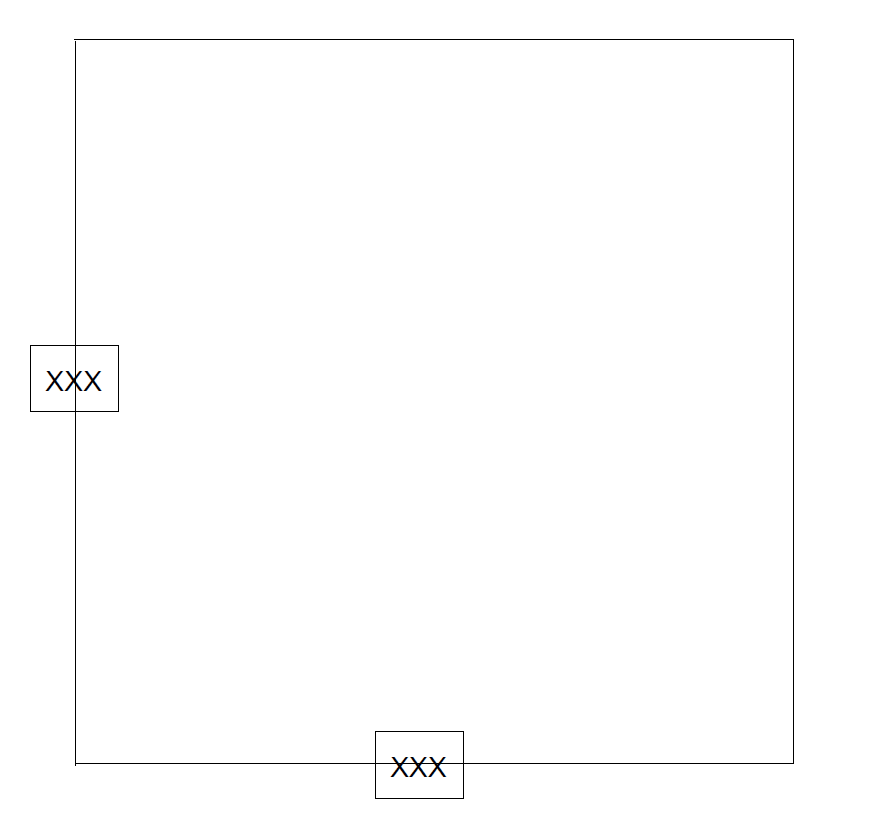38BRKR_ATT: (18, 336, 133, 420), (363, 724, 478, 807)
